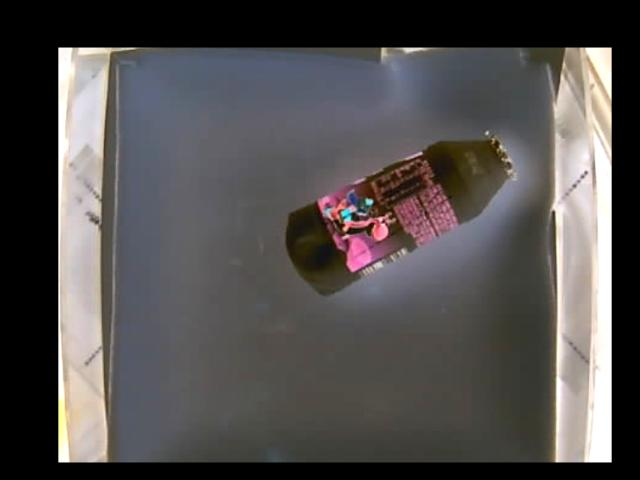Bottle: (284, 129, 519, 297)
